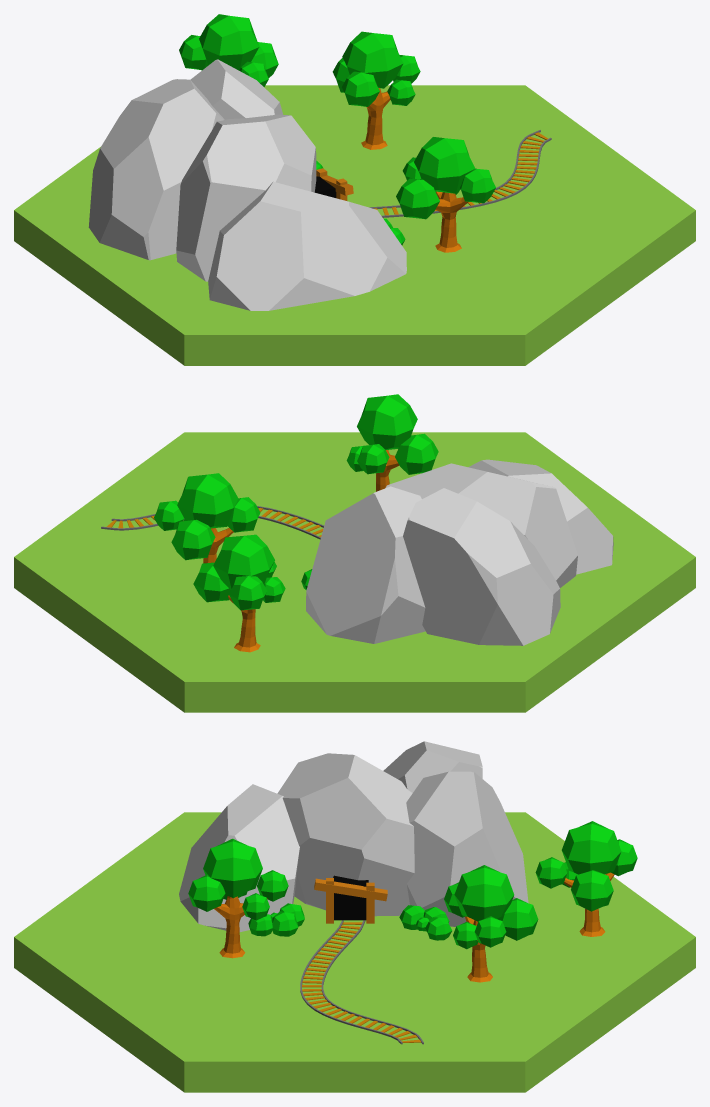
The model's file is Mine.fbx.
3 views of the same model, one above another, from view 1: azimuth 30°, elevation 25°; view 2: azimuth 150°, elevation 25°; view 3: azimuth 270°, elevation 25° (orthographic).
Visible parts, largest first — view 1: Cube.007; view 2: Cube.007; view 3: Cube.007.
Boxes of the visible parts, x1,y1,x2,y2 form: Cube.007: (14, 14, 695, 365); Cube.007: (14, 394, 695, 712); Cube.007: (14, 741, 695, 1092).
Size of the model in its own units: 173 by 51.03 by 200.
